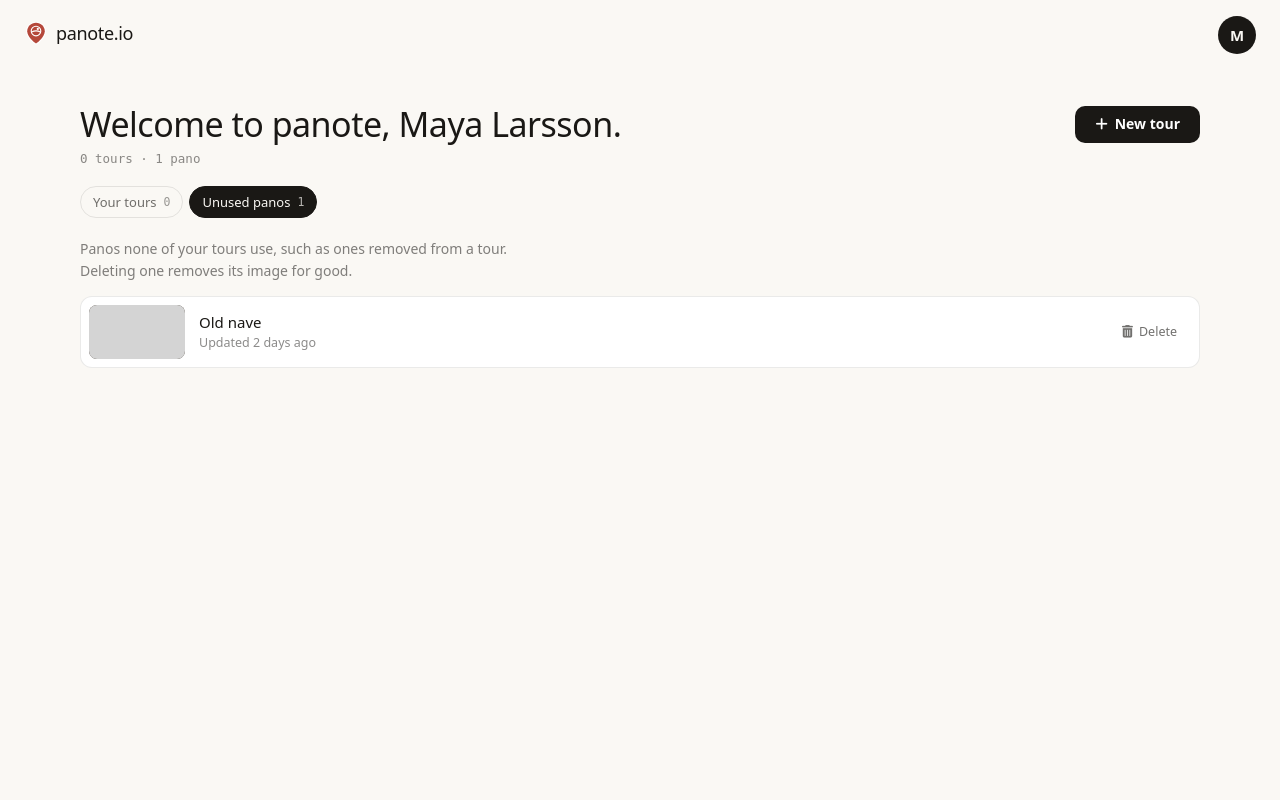
Unused panos › keeps a pano a tour started using, says so, and closes the confirm
Click the button with aria-label "Delete “Old nave”" at (1150, 332), box [1112,316,1187,348]
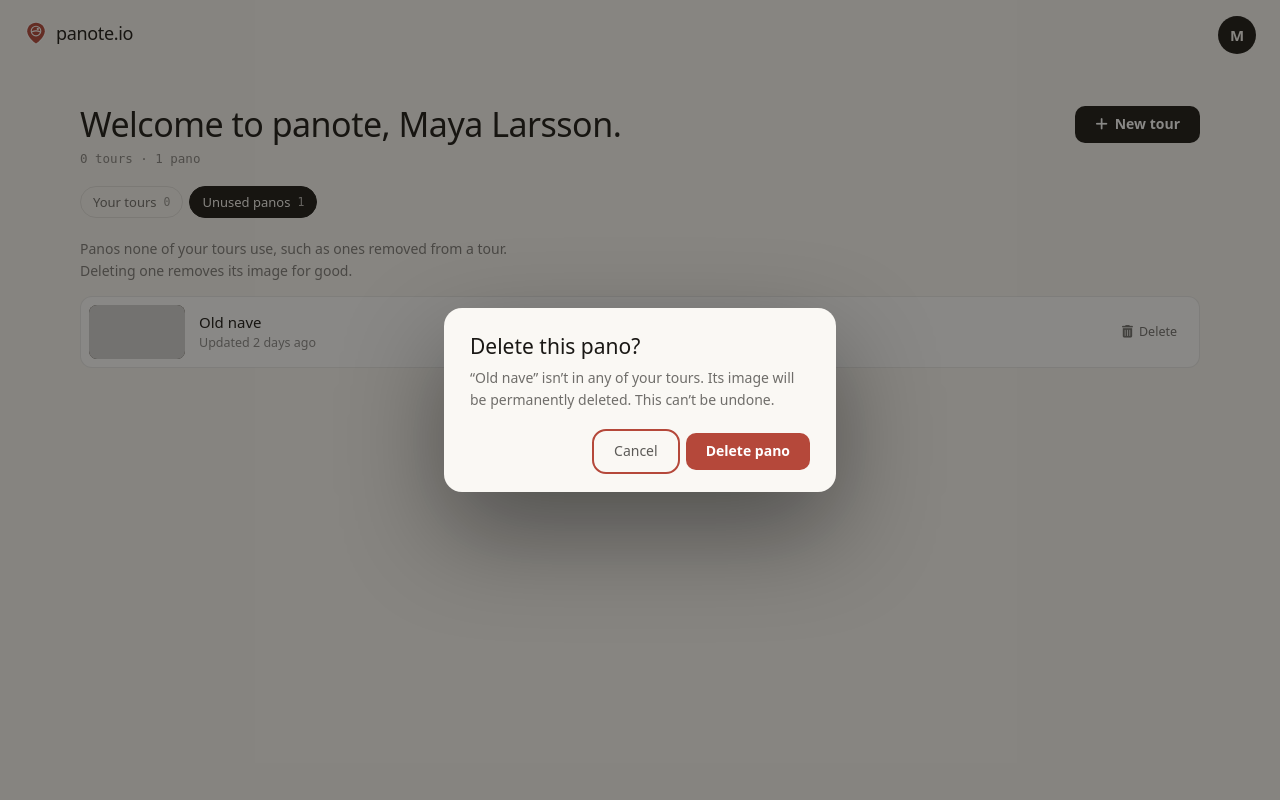
Click the button "Delete pano" at (748, 451), box [686,433,810,470]
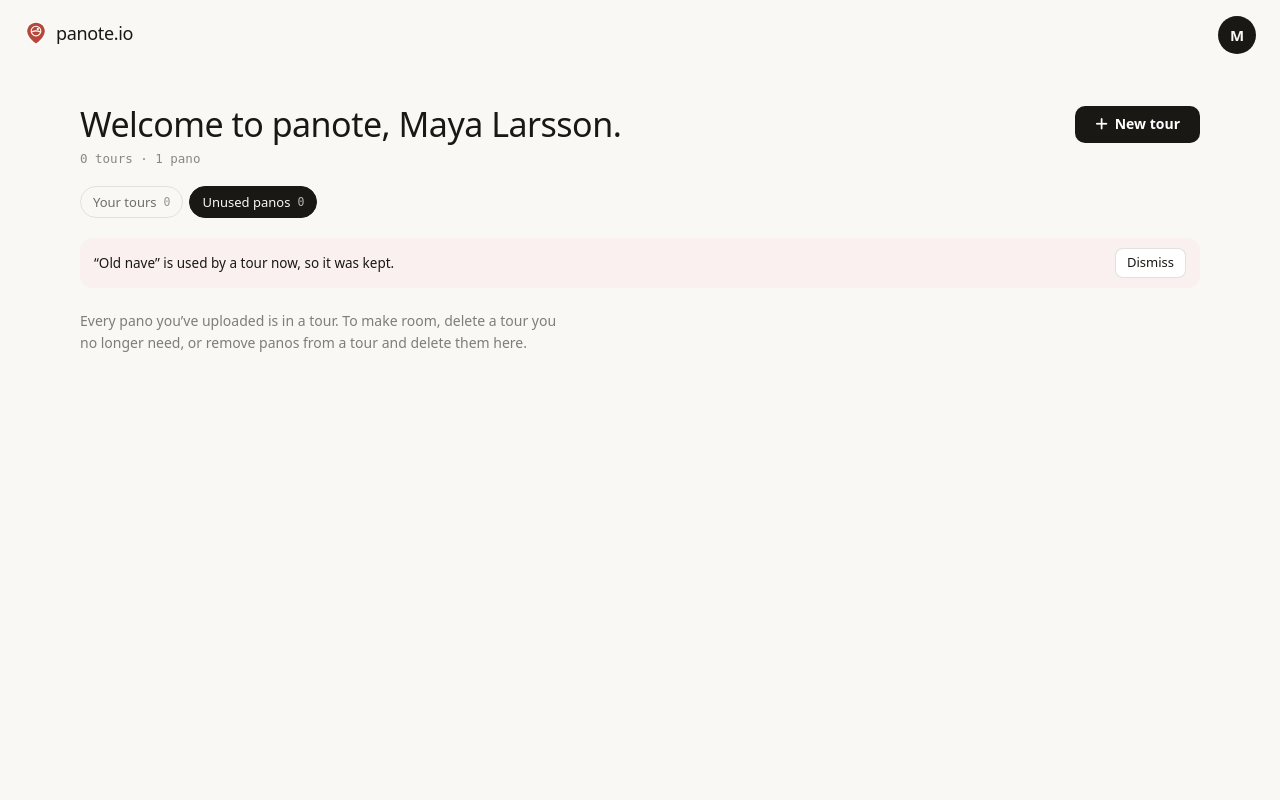
Expected: the dialog is gone
Expected: the message shows "“Old nave” is used by a tour now, so it was kept.", [94,254,394,272]
